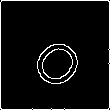O_NE: (21, 22, 89, 88)
